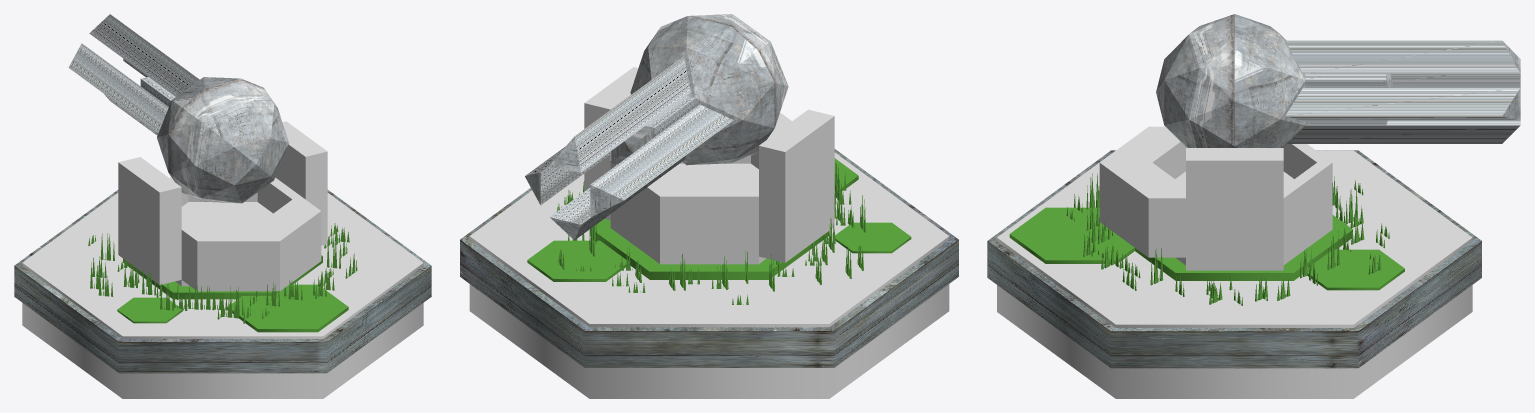
Rendered from turretLv1.fbx.
3 renders of one model, left to right at view 1: azimuth 30°, elevation 25°; view 2: azimuth 150°, elevation 25°; view 3: azimuth 270°, elevation 25°, orthographic. The views are drawn at different scales.
Visible parts, largest first — view 1: Cylinder, Cylinder_4, Sphere; view 2: Cylinder, Sphere, Cylinder_4; view 3: Cylinder, Sphere, Cylinder_4.
Boxes of the visible parts, x1=… form: Cylinder: x1=14, y1=190, x2=431, y2=398; Cylinder_4: x1=118, y1=121, x2=327, y2=291; Sphere: x1=68, y1=14, x2=288, y2=203; Cylinder: x1=460, y1=149, x2=958, y2=398; Sphere: x1=525, y1=14, x2=788, y2=240; Cylinder_4: x1=584, y1=67, x2=834, y2=264; Cylinder: x1=987, y1=150, x2=1481, y2=398; Sphere: x1=1156, y1=14, x2=1520, y2=147; Cylinder_4: x1=1099, y1=126, x2=1332, y2=270.
Size of the model in its own units: 380 by 282 by 473.
Materials: 4 (2 with a texture image).
